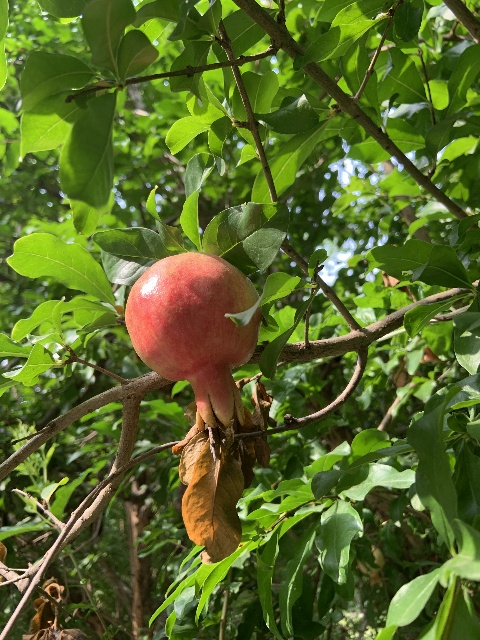ripe: (125, 252, 260, 431)
